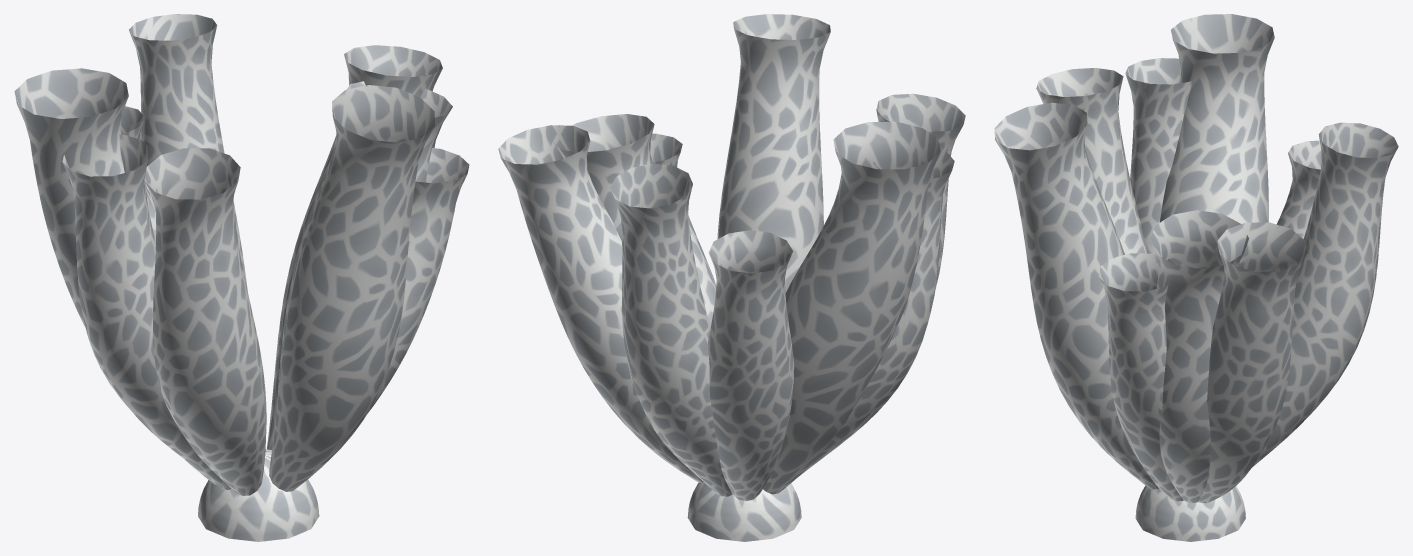
Rendered from SM_GlassSponge_A.fbx.
The picture shows the model from 3 angles, left to right: view 1: azimuth 30°, elevation 25°; view 2: azimuth 150°, elevation 25°; view 3: azimuth 270°, elevation 25°; orthographic projection. The views are drawn at different scales.
Visible parts, largest first — view 1: MSH_GlassSponge_A_LOD0; view 2: MSH_GlassSponge_A_LOD0; view 3: MSH_GlassSponge_A_LOD0.
Boxes of the visible parts, x1,y1,x2,y2 form: MSH_GlassSponge_A_LOD0: (14,14,469,541); MSH_GlassSponge_A_LOD0: (498,14,965,541); MSH_GlassSponge_A_LOD0: (994,14,1398,541).
Size of what is drawn, in the model's own units: 0.4971 by 0.5026 by 0.4397.
